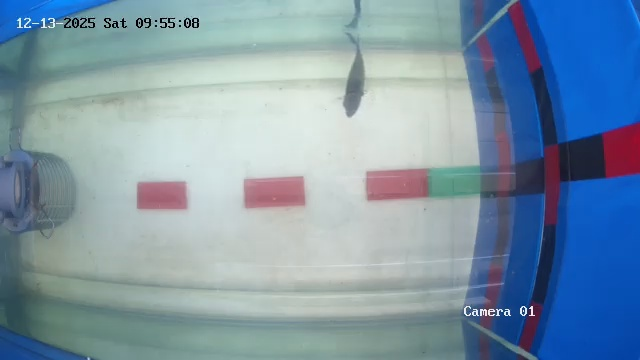fish: (333, 38, 378, 119)
